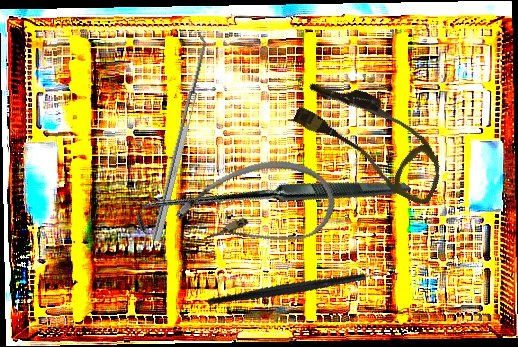Cannula: (284, 69, 460, 208), (168, 145, 344, 273)
Chopper: (207, 226, 398, 340)
Hook Surgical: (130, 66, 412, 345)
Spatula Surgical: (143, 31, 212, 242)
